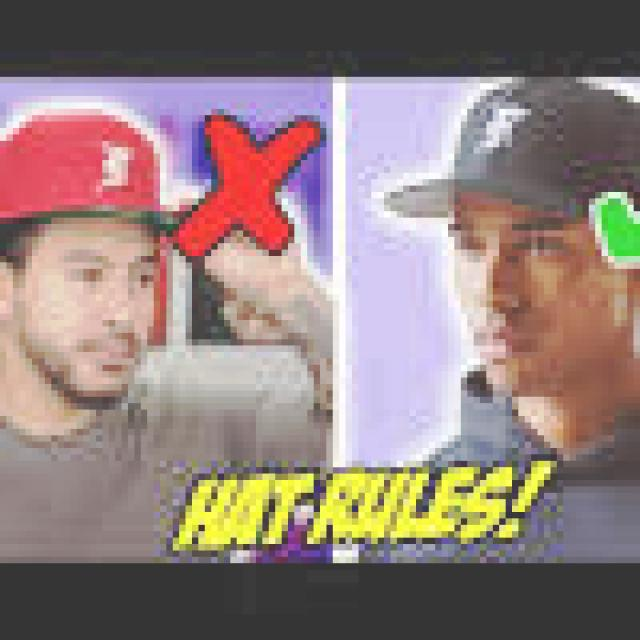TOPI: (378, 70, 634, 250), (0, 96, 192, 250)
